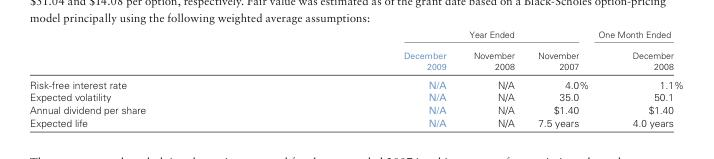table: (28, 28, 683, 128)
table column: (28, 28, 274, 128), (274, 28, 459, 128), (592, 28, 683, 128), (525, 28, 592, 128), (459, 28, 525, 128)
table column header: (28, 28, 683, 74)
table row: (28, 44, 683, 74), (28, 28, 683, 44), (28, 74, 683, 90), (28, 90, 683, 103), (28, 115, 683, 128), (28, 103, 683, 115)
table spanning cell: (274, 28, 592, 44), (592, 28, 683, 74)
